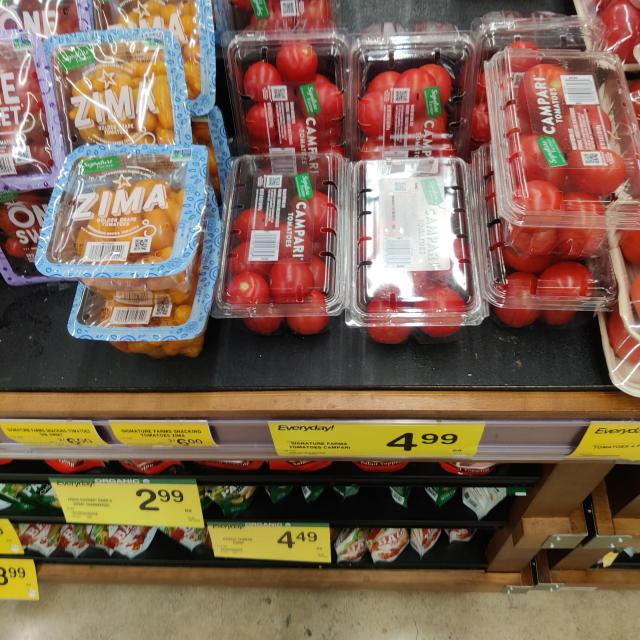Tomatoes: (487, 42, 640, 258), (342, 157, 490, 345), (44, 148, 212, 301), (219, 146, 346, 335), (30, 31, 203, 169), (220, 24, 350, 164), (349, 26, 472, 162)
